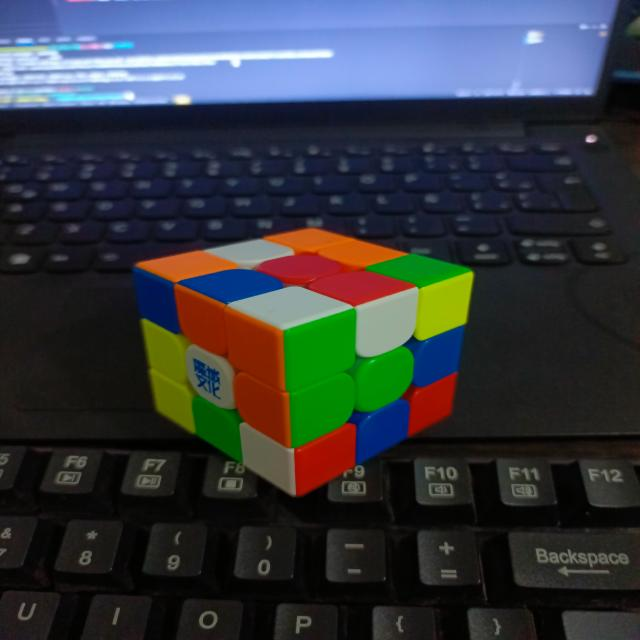rubik: (131, 225, 475, 497)
